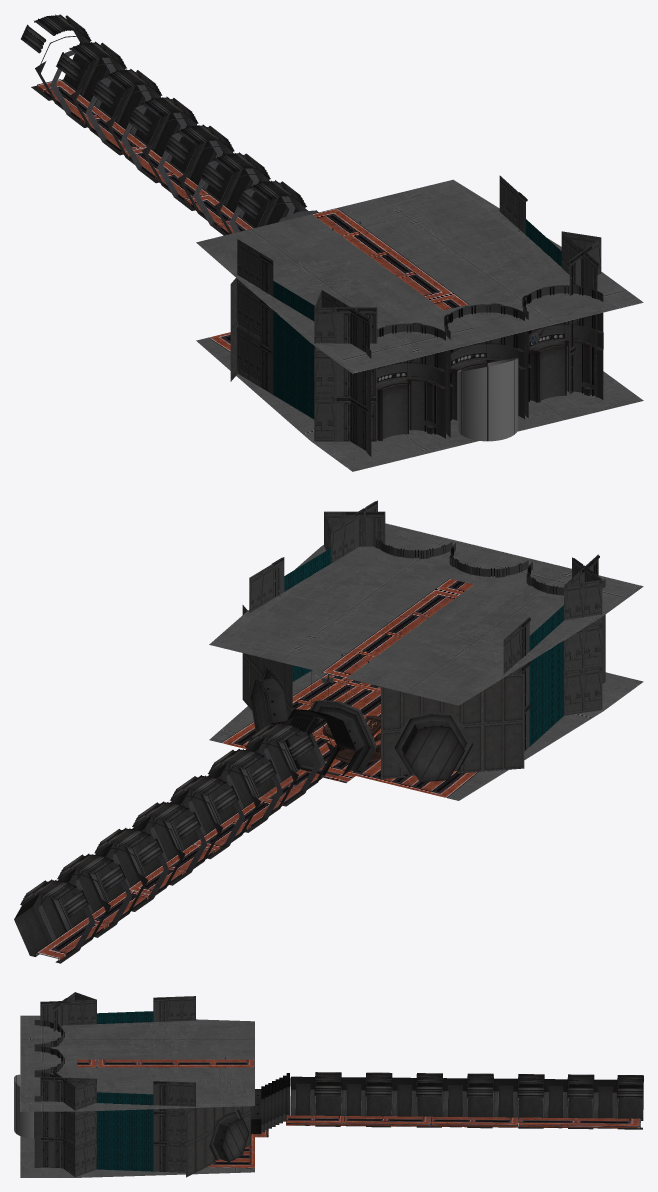
Rendered from env_emp_detentionblock_pre.glb.
3 renders of one model, top to bottom at view 1: azimuth 30°, elevation 25°; view 2: azimuth 150°, elevation 25°; view 3: azimuth 270°, elevation 25°, orthographic. The views are drawn at different scales.
Parts seen in each view (by area): view 1: emp_detention_ceiling_mesh, emp_detention_floor, emp_detention_elevator (1), emp_detention_elevator (2), emp_detention_elevator_interior, emp_detention_elevator, emp_detention_cell_hall_01 (3), emp_detention_cell_hall_01 (2), emp_detention_cell_hall_01 (6), emp_detention_cell_hall_01 (5), emp_detention_cell_hall_01 (4), emp_detention_cell_hall_01 (1) (+10 smaller); view 2: emp_detention_ceiling_mesh, emp_detention_wall_01b (×2), emp_detention_floor, emp_detention_cell_hall_01 (6), emp_detention_door_01 (×2), emp_detention_cell_hall_01, emp_detention_cell_hall_01 (1), emp_detention_cell_hall_01 (3), emp_detention_cell_hall_01 (2), emp_detention_cell_hall_01 (4), emp_detention_cell_hall_01 (5), emp_detention_doorway_01 (1) (×2) (+17 smaller); view 3: emp_detention_ceiling_mesh, emp_detention_floor, emp_detention_cell_hall_01 (3), emp_detention_cell_hall_01 (6), emp_detention_cell_hall_01 (1), emp_detention_cell_hall_01, emp_detention_wall_01b, emp_detention_cell_hall_01 (2), emp_detention_cell_hall_01 (4), emp_detention_cell_hall_01 (5), emp_detention_stairs_01, emp_detention_floor_hall (3) (+34 smaller).
Boxes of the visible parts, x1,y1,x2,y2 form: emp_detention_ceiling_mesh: (196, 179, 643, 373); emp_detention_floor: (196, 332, 643, 471); emp_detention_elevator (1): (366, 322, 445, 456); emp_detention_elevator (2): (522, 284, 603, 417); emp_detention_elevator_interior: (457, 358, 518, 441); emp_detention_elevator: (444, 303, 525, 437); emp_detention_cell_hall_01 (3): (127, 96, 222, 196); emp_detention_cell_hall_01 (2): (163, 124, 259, 224); emp_detention_cell_hall_01 (6): (21, 14, 116, 114); emp_detention_cell_hall_01 (5): (56, 41, 151, 141); emp_detention_cell_hall_01 (4): (91, 69, 186, 169); emp_detention_cell_hall_01 (1): (200, 152, 295, 235); emp_detention_ceiling_mesh: (209, 523, 643, 705); emp_detention_wall_01b (×2): (242, 605, 524, 779); emp_detention_floor: (209, 670, 643, 800); emp_detention_cell_hall_01 (6): (14, 873, 110, 963); emp_detention_door_01 (×2): (251, 679, 464, 782); emp_detention_cell_hall_01: (245, 716, 336, 806); emp_detention_cell_hall_01 (1): (208, 742, 298, 832); emp_detention_cell_hall_01 (3): (132, 795, 222, 885); emp_detention_cell_hall_01 (2): (170, 769, 260, 859); emp_detention_cell_hall_01 (4): (94, 821, 185, 911); emp_detention_cell_hall_01 (5): (57, 847, 148, 937); emp_detention_doorway_01 (1) (×2): (250, 665, 473, 780); emp_detention_ceiling_mesh: (20, 1015, 254, 1111); emp_detention_floor: (20, 1129, 268, 1177); emp_detention_cell_hall_01 (3): (442, 1073, 493, 1128); emp_detention_cell_hall_01 (6): (592, 1075, 643, 1129); emp_detention_cell_hall_01 (1): (341, 1072, 392, 1127); emp_detention_cell_hall_01: (290, 1072, 341, 1126); emp_detention_wall_01b: (186, 1106, 250, 1177); emp_detention_cell_hall_01 (2): (391, 1073, 442, 1127); emp_detention_cell_hall_01 (4): (493, 1074, 544, 1128); emp_detention_cell_hall_01 (5): (543, 1074, 594, 1129); emp_detention_stairs_01: (261, 1073, 289, 1132); emp_detention_floor_hall (3): (518, 1117, 640, 1128).
Bounding box in the file's own units: 16 × 7.06 × 44.38.
13 materials, 13 textured.
